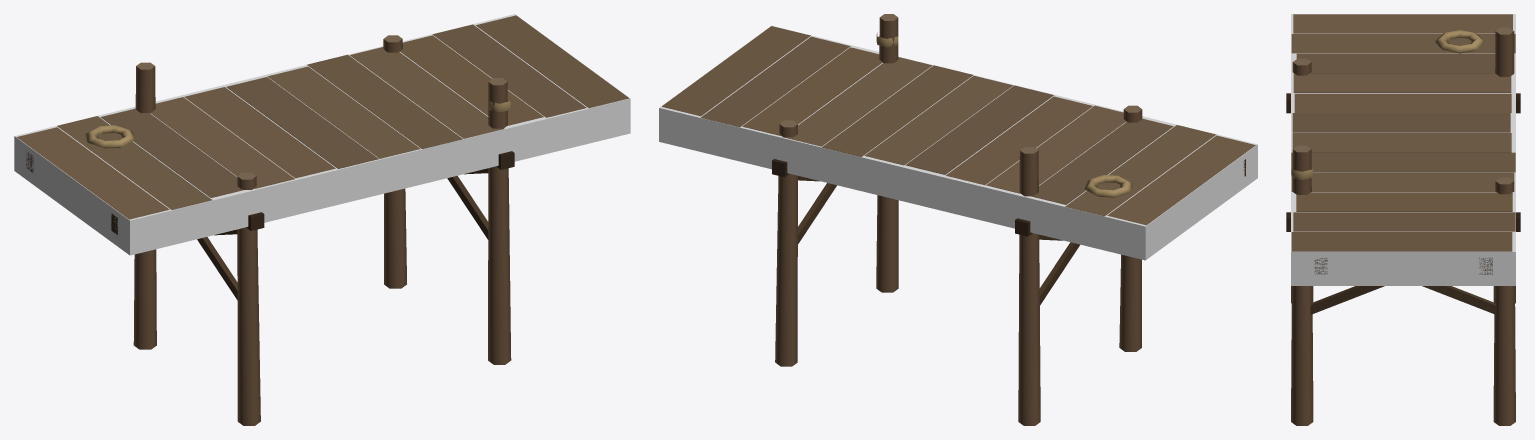
The model's file is dock.glb.
The picture shows the model from 3 angles, left to right: view 1: azimuth 30°, elevation 25°; view 2: azimuth 150°, elevation 25°; view 3: azimuth 270°, elevation 25°; orthographic projection. The views are drawn at different scales.
Visible parts, largest first — view 1: dock, WALK_deck; view 2: dock, WALK_deck; view 3: dock, WALK_deck.
Part boxes in pixels (x1,y1,x2,y2): dock: (17,15,629,425); WALK_deck: (14,14,630,255); dock: (662,14,1255,425); WALK_deck: (659,25,1257,260); dock: (1286,14,1520,425); WALK_deck: (1291,14,1515,285).
Size of the model in its own units: 6 by 3.2 by 2.5.
